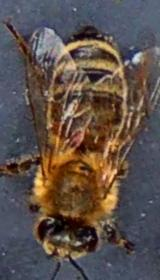varroa_mite: (66, 125, 92, 148)
